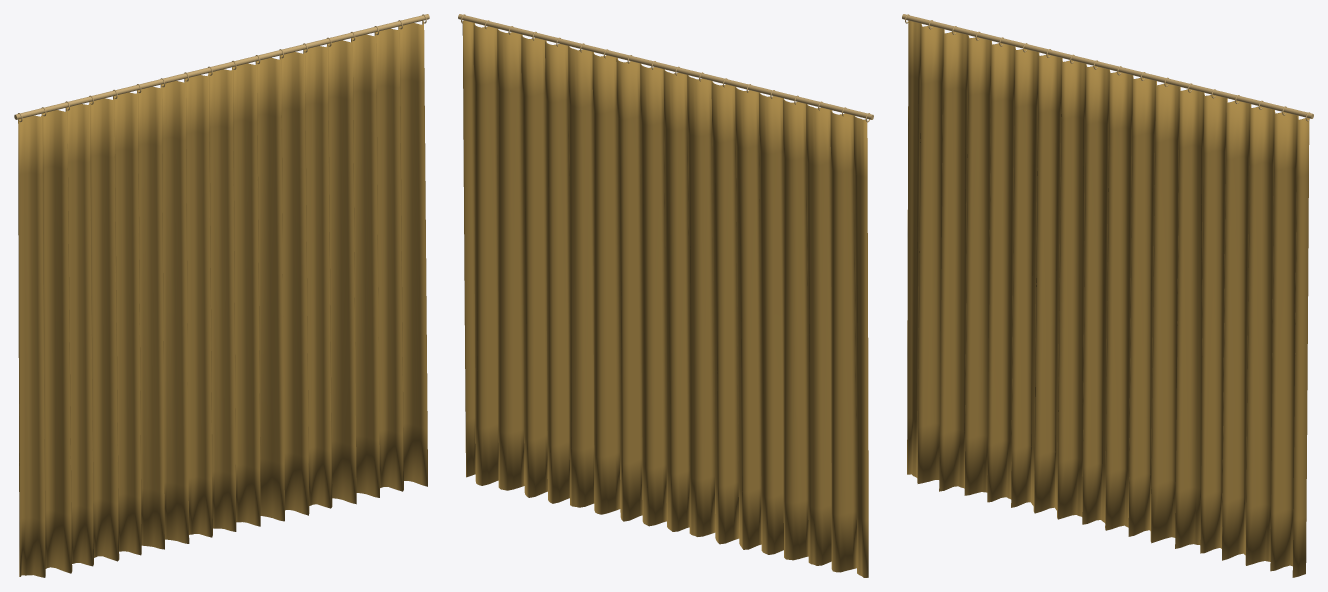
File: gold_curtain_wall_candidate.glb
3 views of the same model, side by side, from view 1: azimuth 30°, elevation 25°; view 2: azimuth 150°, elevation 25°; view 3: azimuth 330°, elevation 25° (orthographic).
Visible parts, largest first — view 1: curtain_Gold curtain wall (candidate), Cylinder; view 2: curtain_Gold curtain wall (candidate), Cylinder; view 3: curtain_Gold curtain wall (candidate), Cylinder.
Part boxes in pixels (left/top/right/bottom): curtain_Gold curtain wall (candidate): left=18, top=20, right=427, bottom=577; Cylinder: left=14, top=14, right=429, bottom=119; curtain_Gold curtain wall (candidate): left=462, top=20, right=868, bottom=577; Cylinder: left=458, top=14, right=873, bottom=119; curtain_Gold curtain wall (candidate): left=907, top=20, right=1309, bottom=577; Cylinder: left=902, top=14, right=1313, bottom=118.
Bounding box in the file's own units: 2.97 × 3.19 × 0.1739.
